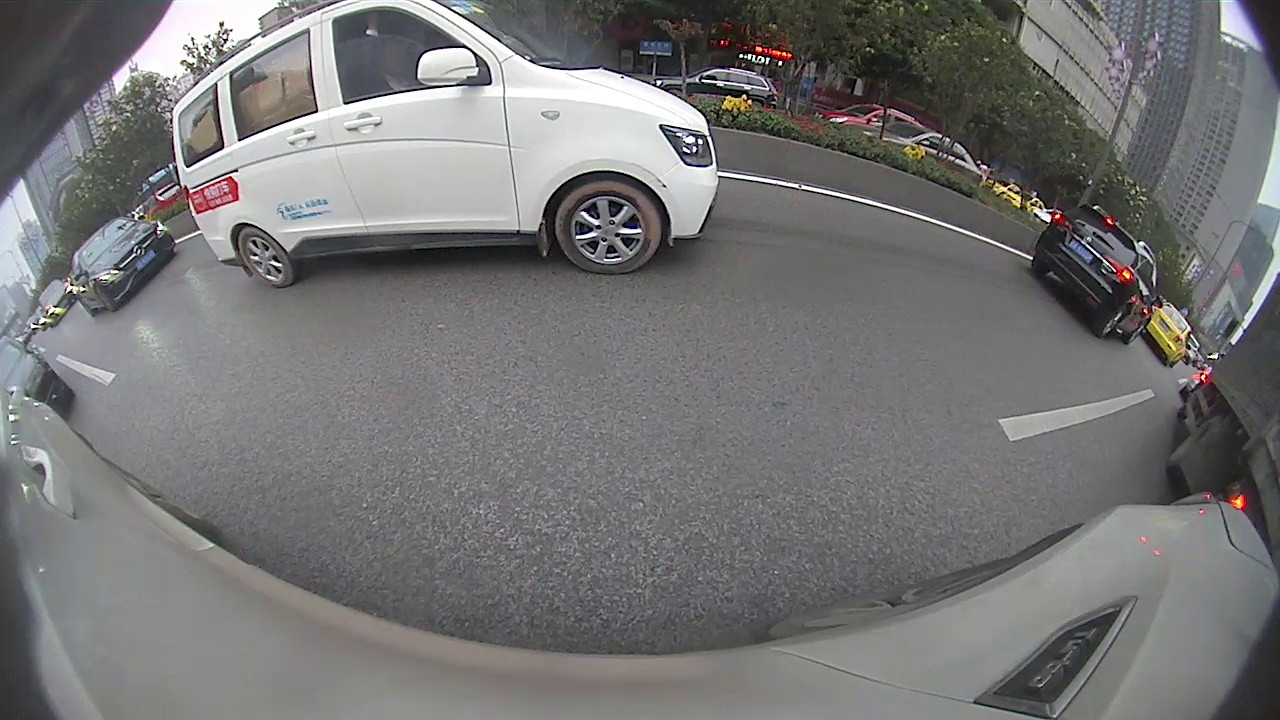car: (975, 188, 1173, 315), (799, 158, 912, 213), (933, 190, 1038, 234), (1220, 334, 1279, 399), (742, 157, 803, 189), (612, 155, 646, 183)
front: (1244, 363, 1269, 403), (985, 223, 1015, 254), (939, 205, 957, 226), (799, 180, 810, 195)
rear: (1085, 263, 1124, 307), (839, 184, 854, 208)
